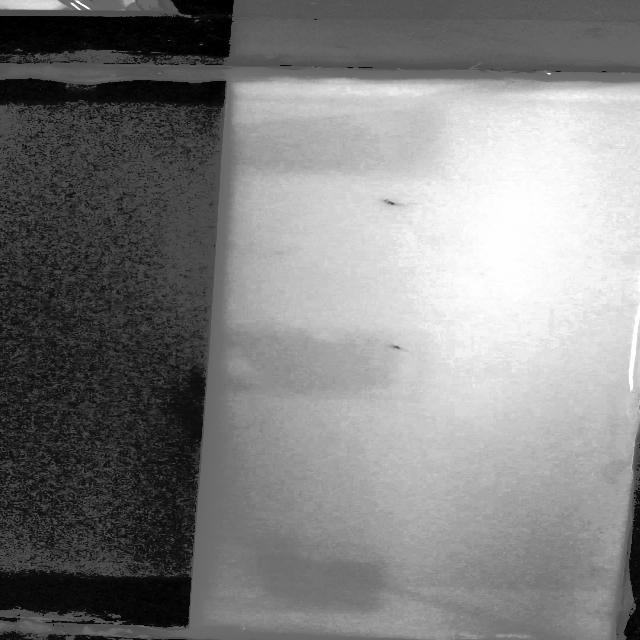shrimp: (378, 336, 428, 355), (367, 192, 406, 214)
